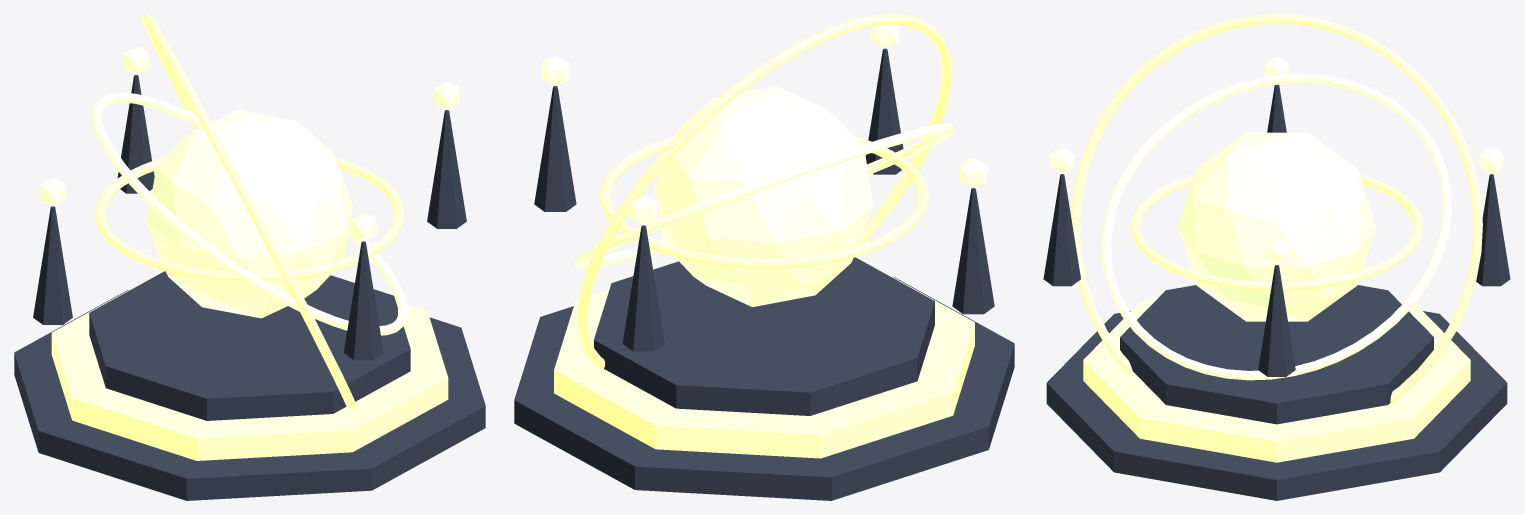
Rendered from gpu-blender-v4.glb.
3 renders of one model, left to right at view 1: azimuth 30°, elevation 25°; view 2: azimuth 150°, elevation 25°; view 3: azimuth 270°, elevation 25°, orthographic. The views are drawn at different scales.
Parts seen in each view (by area): view 1: Cylinder.002, SovereignCore_zoth-ascii-magic, Cylinder, Cylinder.001, Torus.001, Torus.002, Torus, Cone.003, Cone, Cone.002, Cone.001, Icosphere.002 (+3 smaller); view 2: Cylinder.002, SovereignCore_zoth-ascii-magic, Cylinder, Cylinder.001, Torus.002, Torus, Torus.001, Cone.002, Cone.001, Cone, Cone.003, Icosphere (+3 smaller); view 3: SovereignCore_zoth-ascii-magic, Cylinder.002, Cylinder, Cylinder.001, Torus.001, Torus.002, Torus, Cone.003, Cone, Cone.001, Cone.002, Icosphere (+2 smaller).
Part boxes in pixels (x1,y1,x2,y2): Cylinder.002: [89, 271, 410, 420]; SovereignCore_zoth-ascii-magic: [147, 110, 352, 318]; Cylinder: [14, 290, 485, 500]; Cylinder.001: [51, 280, 448, 460]; Torus.001: [92, 92, 407, 335]; Torus.002: [142, 14, 356, 408]; Torus: [95, 157, 404, 282]; Cone.003: [343, 241, 383, 360]; Cone: [427, 110, 466, 228]; Cone.002: [33, 206, 72, 324]; Cone.001: [117, 75, 154, 193]; Icosphere.002: [39, 178, 66, 205]; Cylinder.002: [594, 257, 934, 415]; SovereignCore_zoth-ascii-magic: [655, 86, 873, 307]; Cylinder: [514, 277, 1014, 500]; Cylinder.001: [554, 266, 974, 458]; Torus.002: [577, 14, 951, 369]; Torus: [600, 136, 928, 268]; Torus.001: [574, 123, 954, 269]; Cone.002: [952, 188, 994, 314]; Cone.001: [622, 225, 664, 351]; Cone: [534, 86, 576, 211]; Cone.003: [865, 48, 903, 174]; Icosphere: [540, 56, 569, 85]; SovereignCore_zoth-ascii-magic: [1177, 132, 1376, 321]; Cylinder.002: [1120, 285, 1433, 424]; Cylinder: [1046, 311, 1507, 500]; Cylinder.001: [1083, 299, 1470, 462]; Torus.001: [1102, 73, 1451, 380]; Torus.002: [1071, 14, 1482, 403]; Torus: [1131, 174, 1422, 291]; Cone.003: [1043, 174, 1080, 286]; Cone: [1258, 265, 1295, 376]; Cone.001: [1476, 174, 1510, 286]; Cone.002: [1267, 84, 1286, 132]; Icosphere: [1264, 238, 1289, 264].
Bounding box in the file's own units: 4.41 × 3.72 × 4.46.
